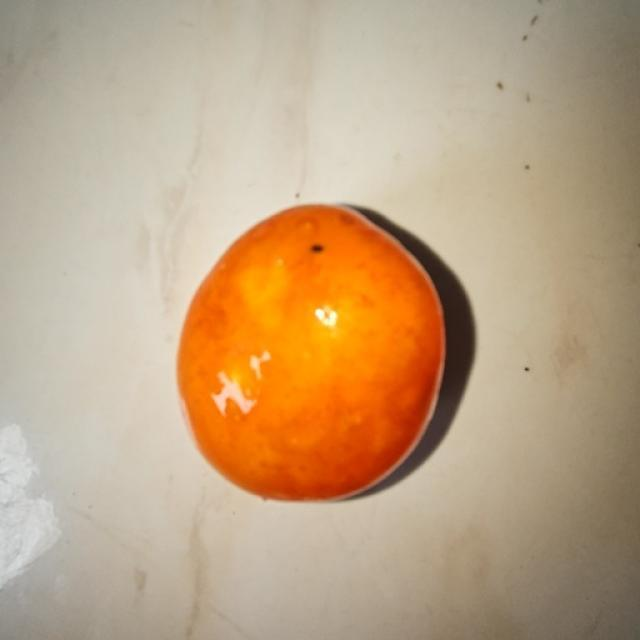Red: (174, 201, 447, 503)
